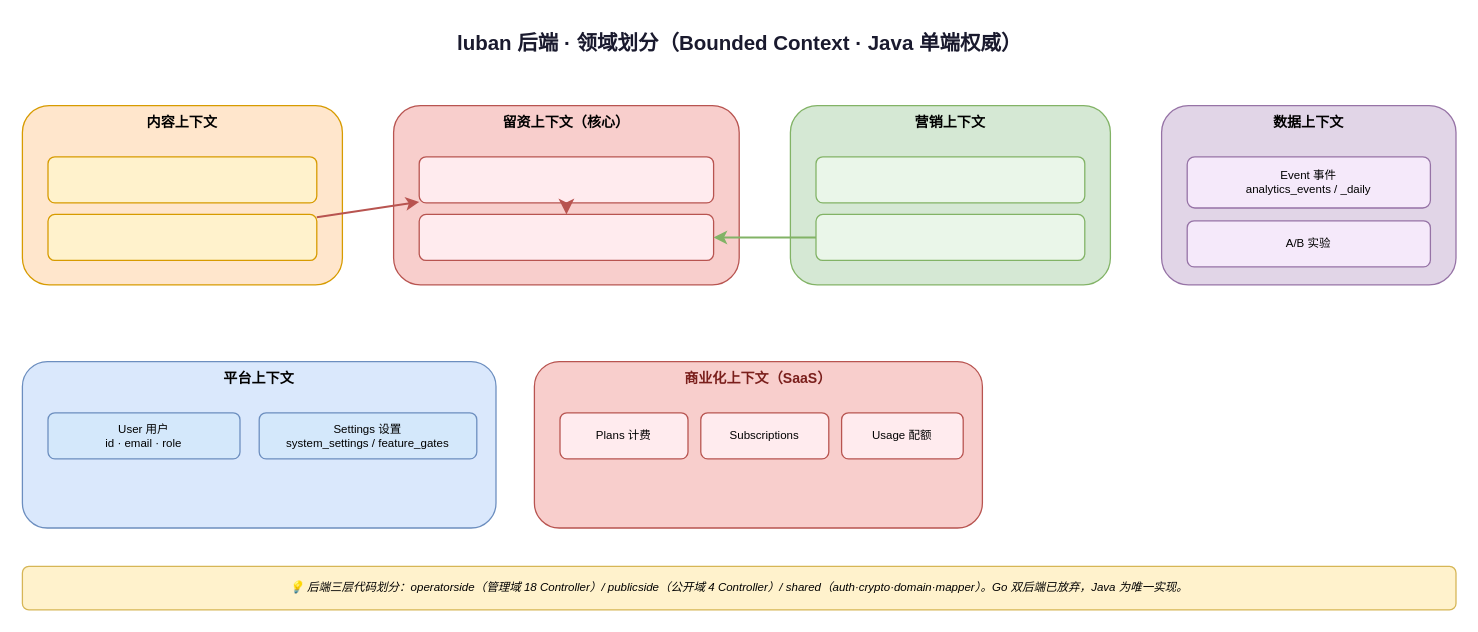
Some shapes in this 1478 by 632 pixel diagram are drawn without their labels. The shapes that lost their labels are listed below. From the top down, each one's centre as x and y in pixels, then its label:
(182,179): Site 站点 id · slug · owner_id
(566,179): Form 表单 id · site_id · dedup_strategy
(950,179): Campaign 活动
(182,236): Page 页面 id · site_id · path · status
(566,236): Lead 线索 ★ id · form_id · contact(加密) · status
(950,236): Channel 渠道 id · short_code · utm_template
